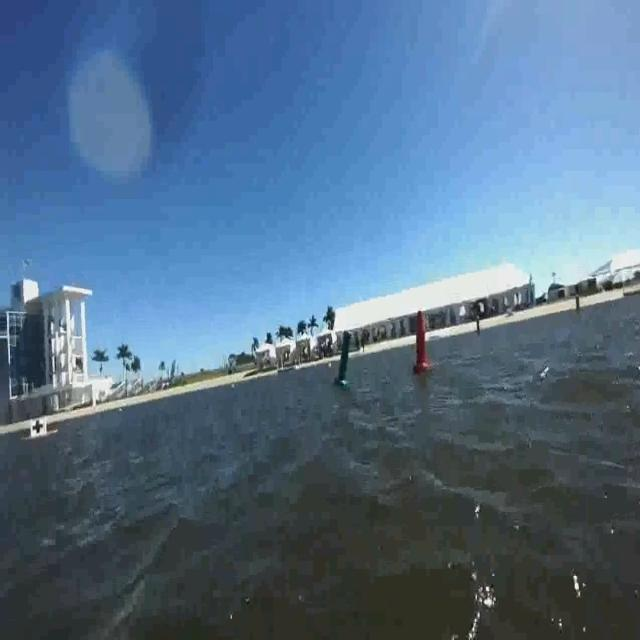green-column-buoy: (328, 321, 355, 400)
red-column-buoy: (412, 310, 432, 376)
